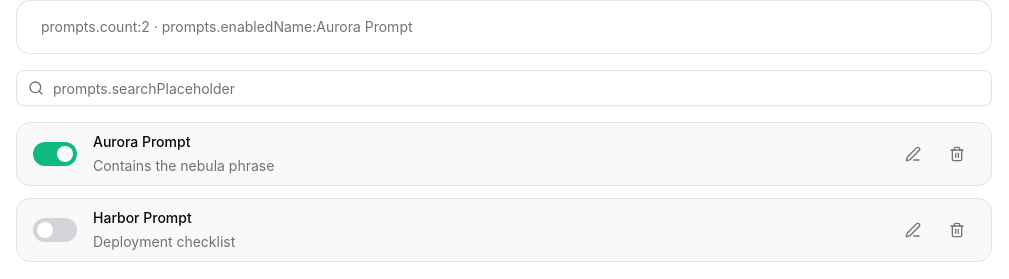
PromptPanel › filters by record ID
Expected: the switch next to "Contains the nebula phrase" is enabled, [33,142,77,166]
Type "RECORD-INDEX-47" into the field named "prompts.searchAriaLabel" at x=504, y=88, box [16,70,992,106]
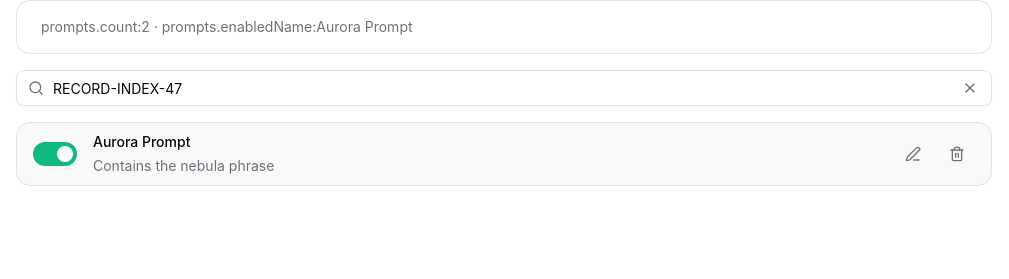
Expected: the heading "Aurora Prompt" is shown, [93,133,190,150]
Now the heading "Harbor Prompt" is gone
